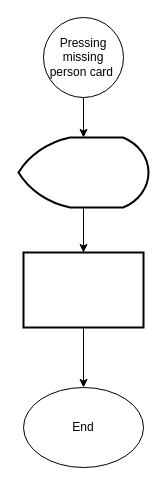
Some shapes in this 166 by 485 pixel diagram are drawn without their labels. The box of each missing label's shape, as (x1, y1, x2, y2) in pixels:
Missing person Details Page: (17, 136, 149, 208)
Show all missing person data and contact info as entered in the post: (22, 251, 144, 328)
